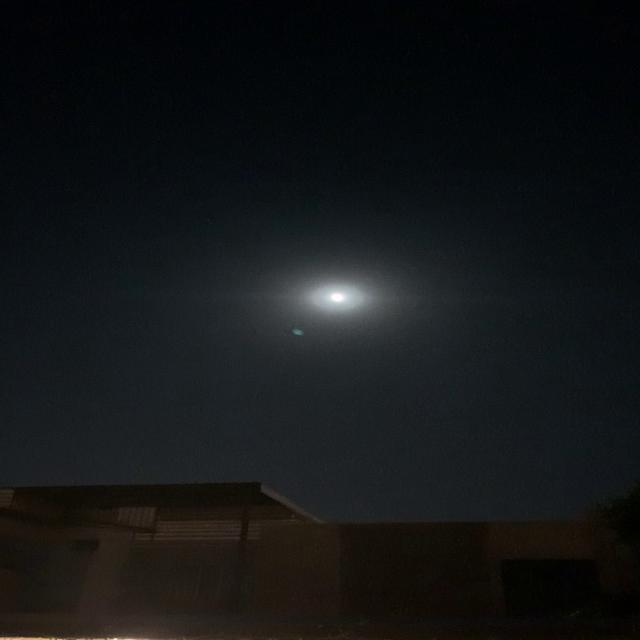moon: (308, 282, 368, 312)
